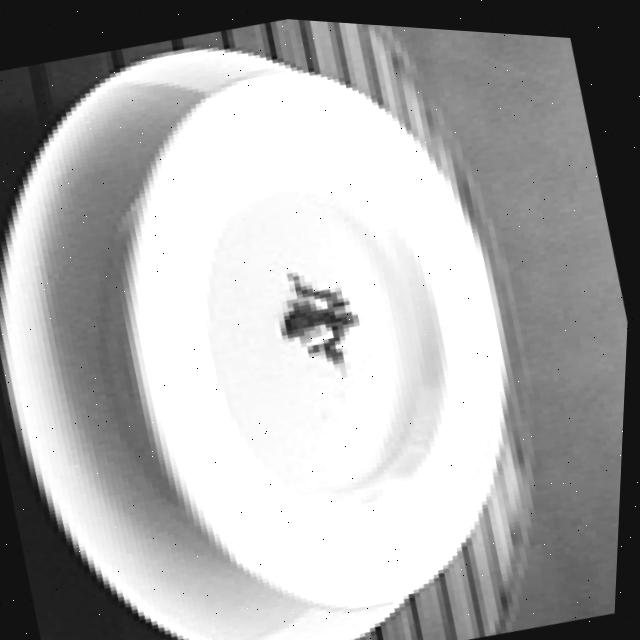汤锅炖物: (42, 11, 593, 640)
